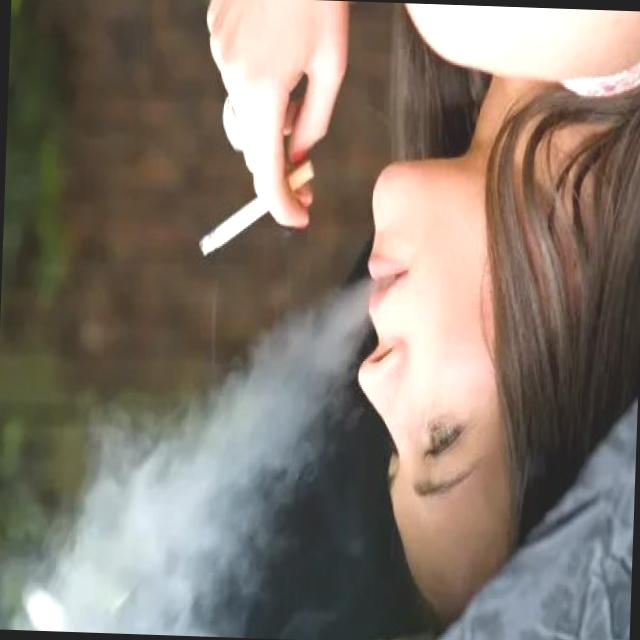cigarette: (194, 152, 318, 268)
